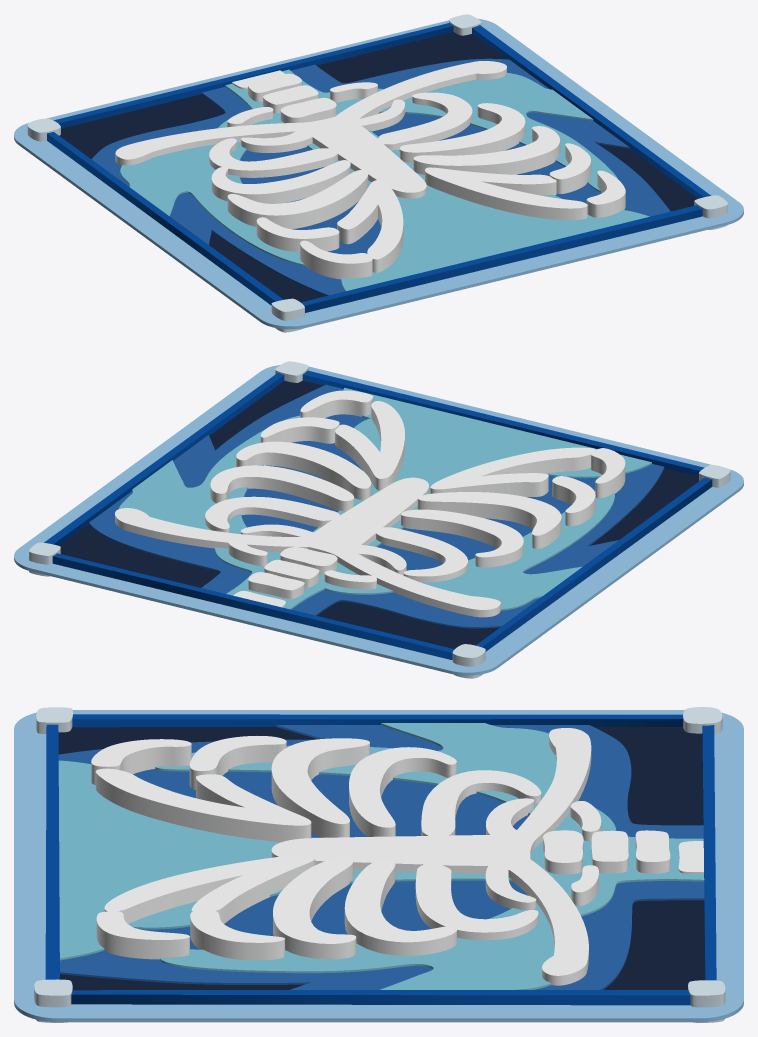
The model's file is emoji_u1fa7b.glb.
3 views of the same model, one above another, from view 1: azimuth 30°, elevation 25°; view 2: azimuth 150°, elevation 25°; view 3: azimuth 270°, elevation 25° (orthographic). The views are drawn at different scales.
Visible parts, largest first — view 1: emoji_u1fa7b; view 2: emoji_u1fa7b; view 3: emoji_u1fa7b.
Boxes of the visible parts, x1,y1,x2,y2 form: emoji_u1fa7b: (14,14,743,332); emoji_u1fa7b: (14,361,743,678); emoji_u1fa7b: (14,707,743,1022).
Size of the model in its own units: 0.034 by 0.0028 by 0.034.
